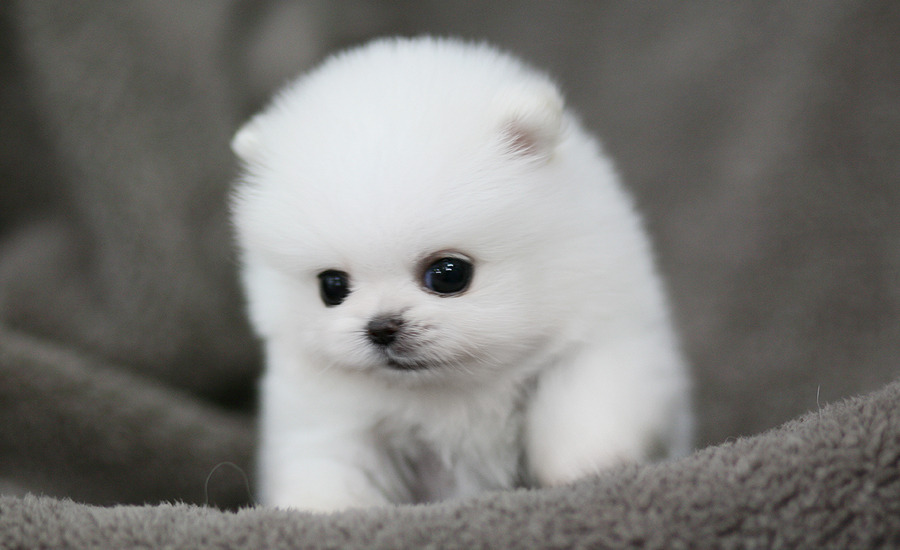pomeranian: (212, 25, 713, 513)
